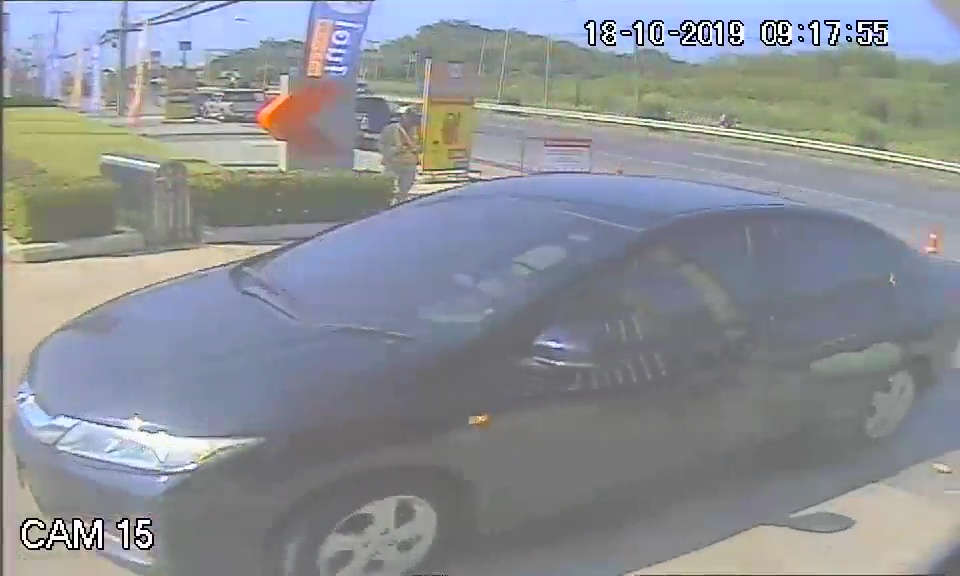sedan: (19, 177, 936, 568)
